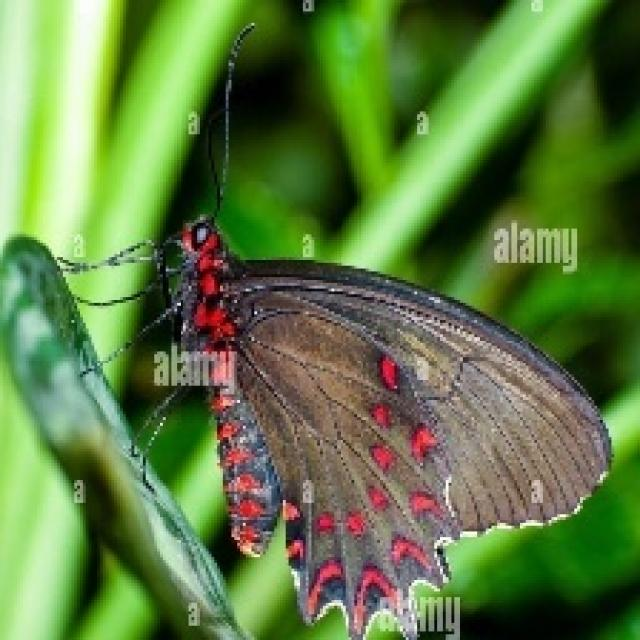butterfly: (49, 20, 614, 637)
